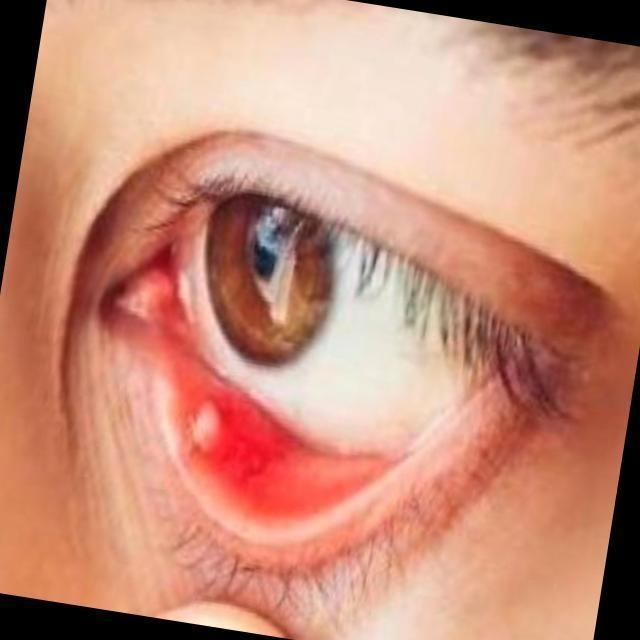Stye: (129, 341, 286, 494)
